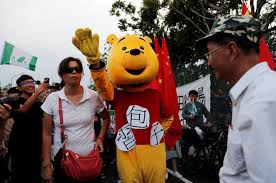Winnie: (101, 26, 160, 101)
